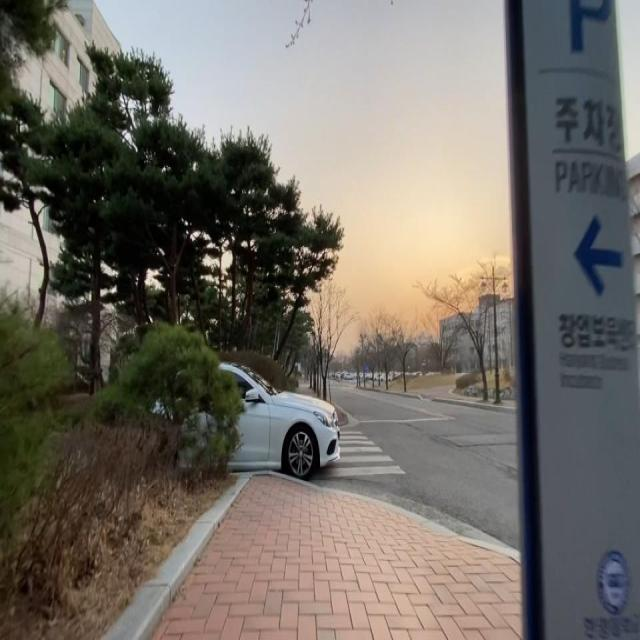sidewalk: (148, 475, 523, 640), (407, 385, 483, 402), (498, 400, 516, 407), (485, 399, 495, 404)
